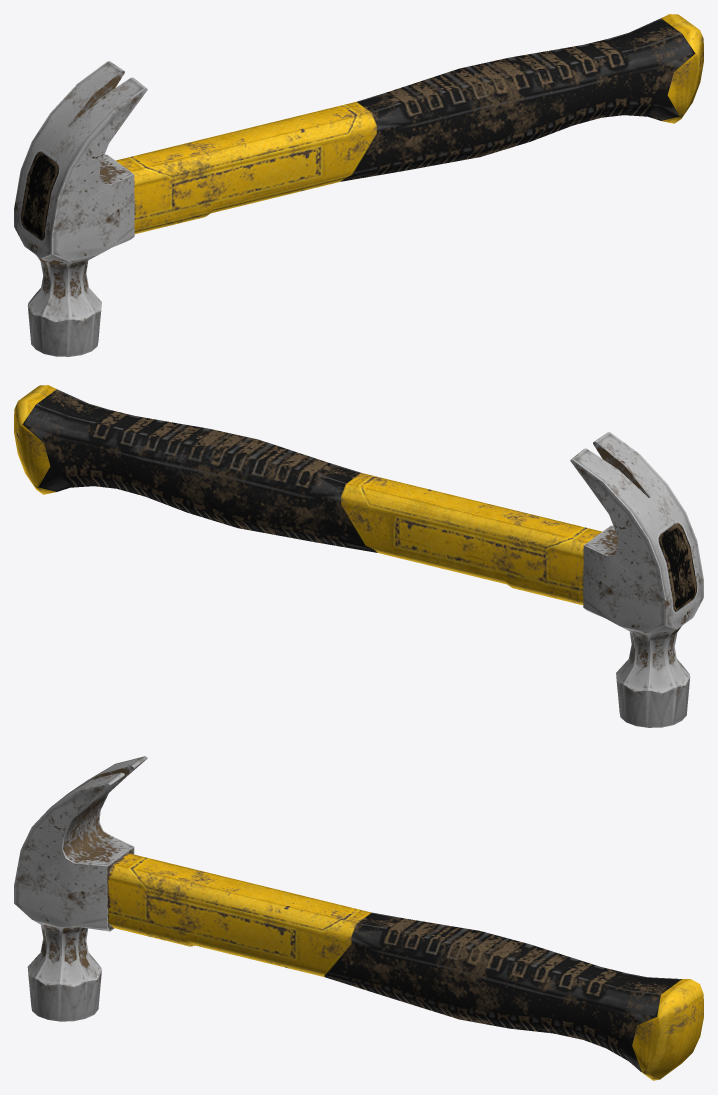
The model's file is hammer_low.fbx.
The picture shows the model from 3 angles, top to bottom: view 1: azimuth 30°, elevation 25°; view 2: azimuth 150°, elevation 25°; view 3: azimuth 330°, elevation 25°; orthographic projection.
Parts seen in each view (by area): view 1: hammer_low; view 2: hammer_low; view 3: hammer_low.
Boxes of the visible parts, left/top/right/bottom form: hammer_low: left=14, top=14, right=703, bottom=356; hammer_low: left=14, top=385, right=703, bottom=727; hammer_low: left=14, top=756, right=703, bottom=1080.
Size of the model in its own units: 29.85 by 10.93 by 3.
